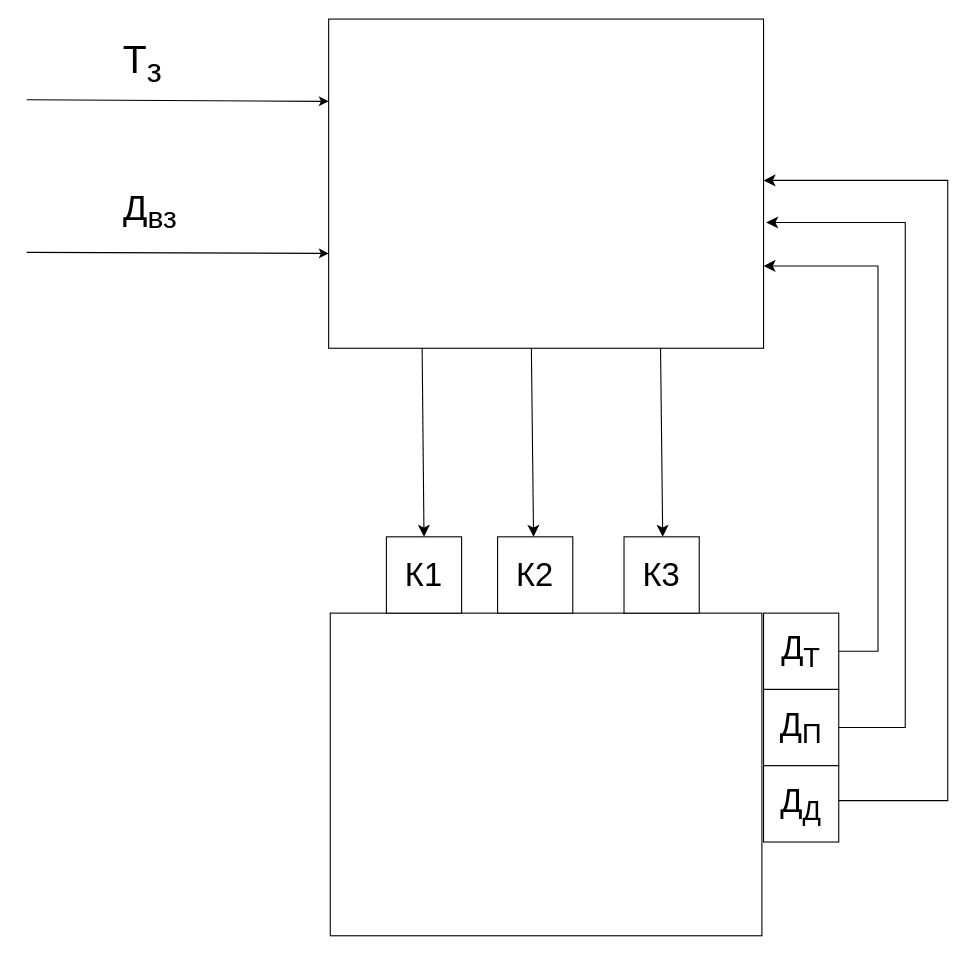
Image size: 978x955. Some labels were removed from this diagram. The centre of each missing label's shape, as x and y in pixels:
ОУ: [545,774]
УУ: [546,183]
